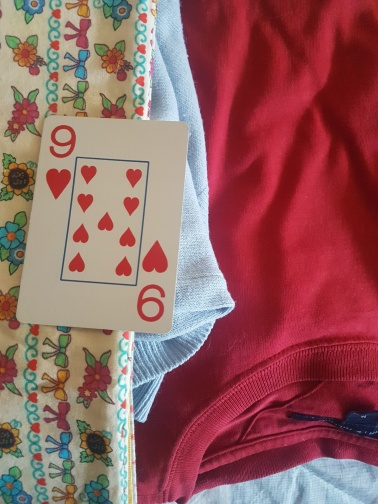nine: (16, 117, 187, 331)
